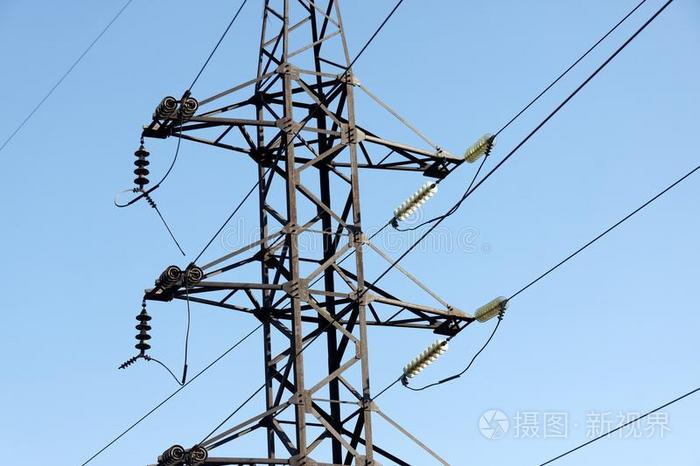insulator: (393, 181, 436, 222), (403, 337, 446, 375), (153, 97, 200, 126), (157, 263, 202, 291), (161, 441, 206, 465), (471, 295, 508, 322), (464, 134, 495, 162), (133, 311, 153, 351), (133, 149, 152, 186)
